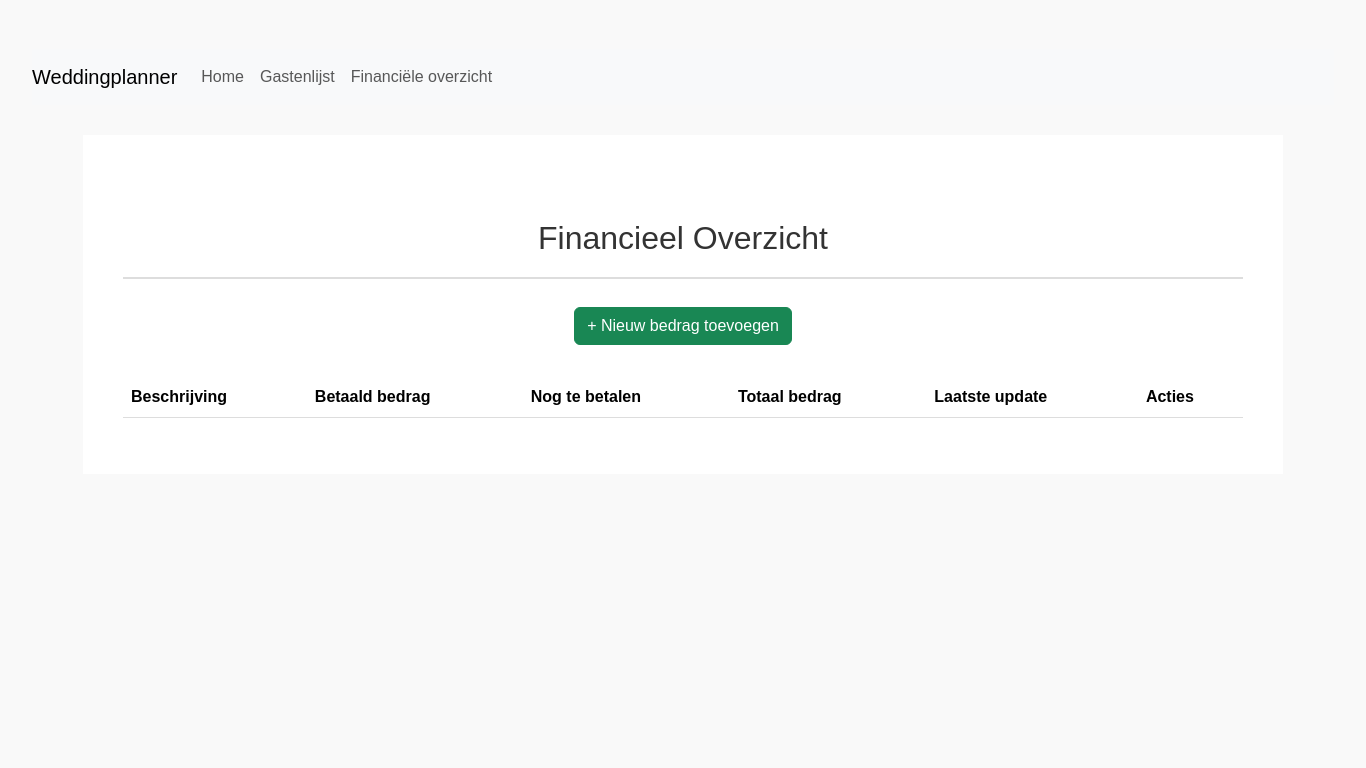
Test: Finance Management E2E Test › Kan toevoegen annuleren zonder iets op te slaan
Click the button with class "btn-success" at (683, 326), box [574, 307, 792, 345]
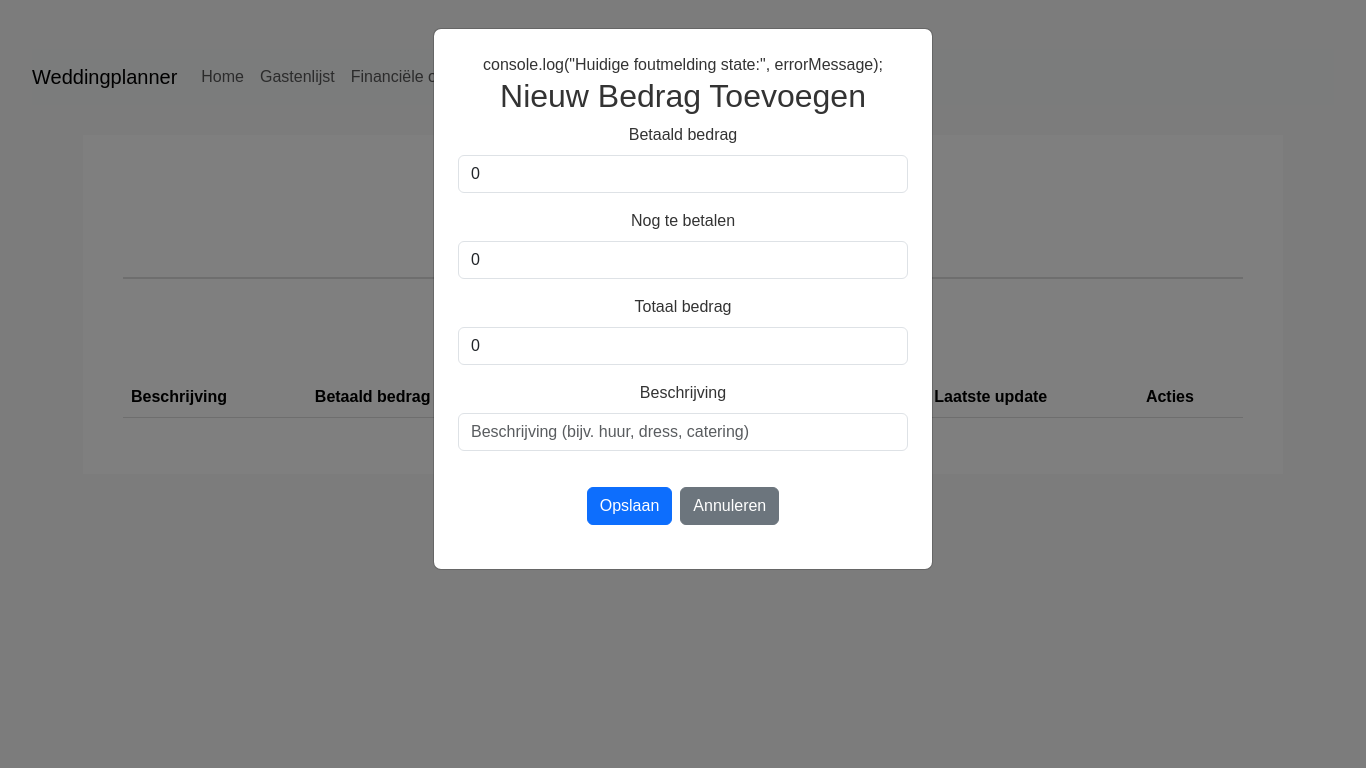
Type "123" into the number field named "amountPayed" at (683, 174), box [458, 155, 908, 193]
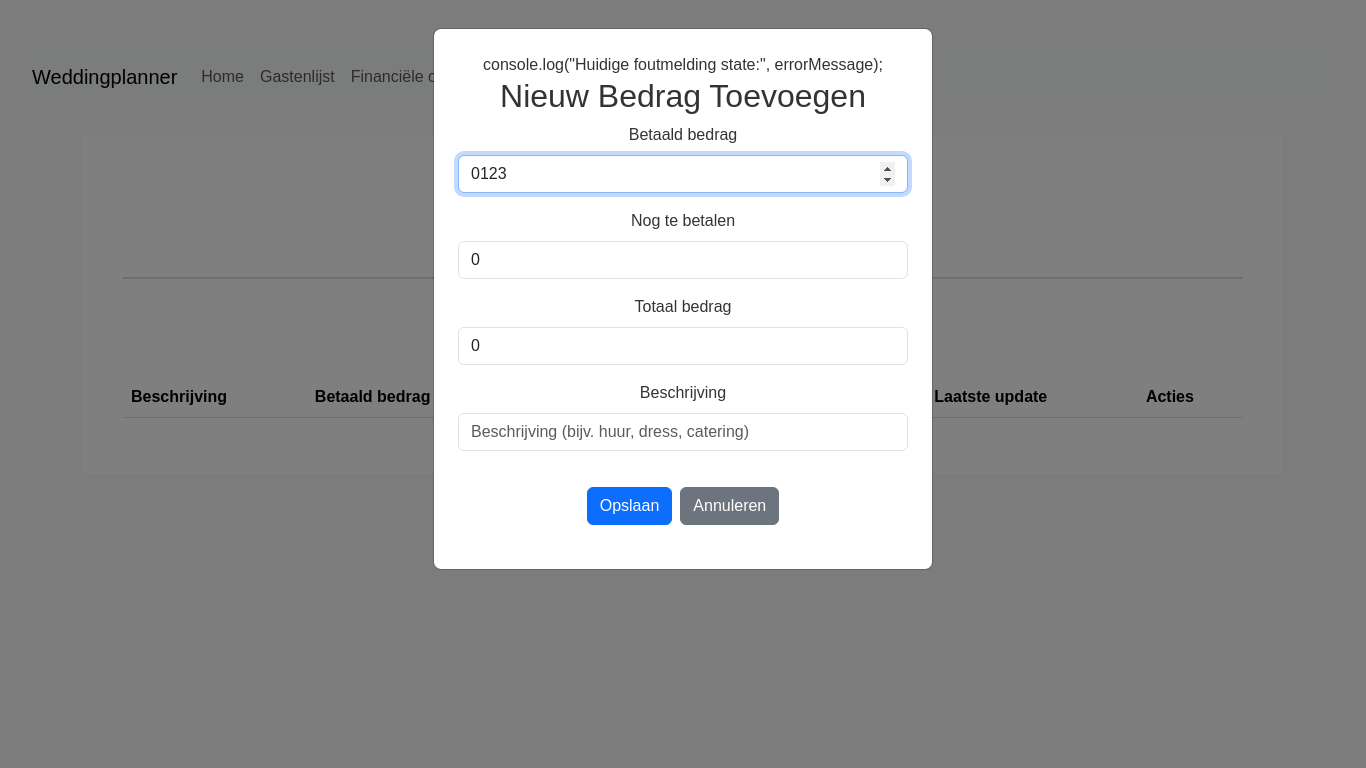
Type "45" into the number field named "amountDue" at (683, 260), box [458, 241, 908, 279]
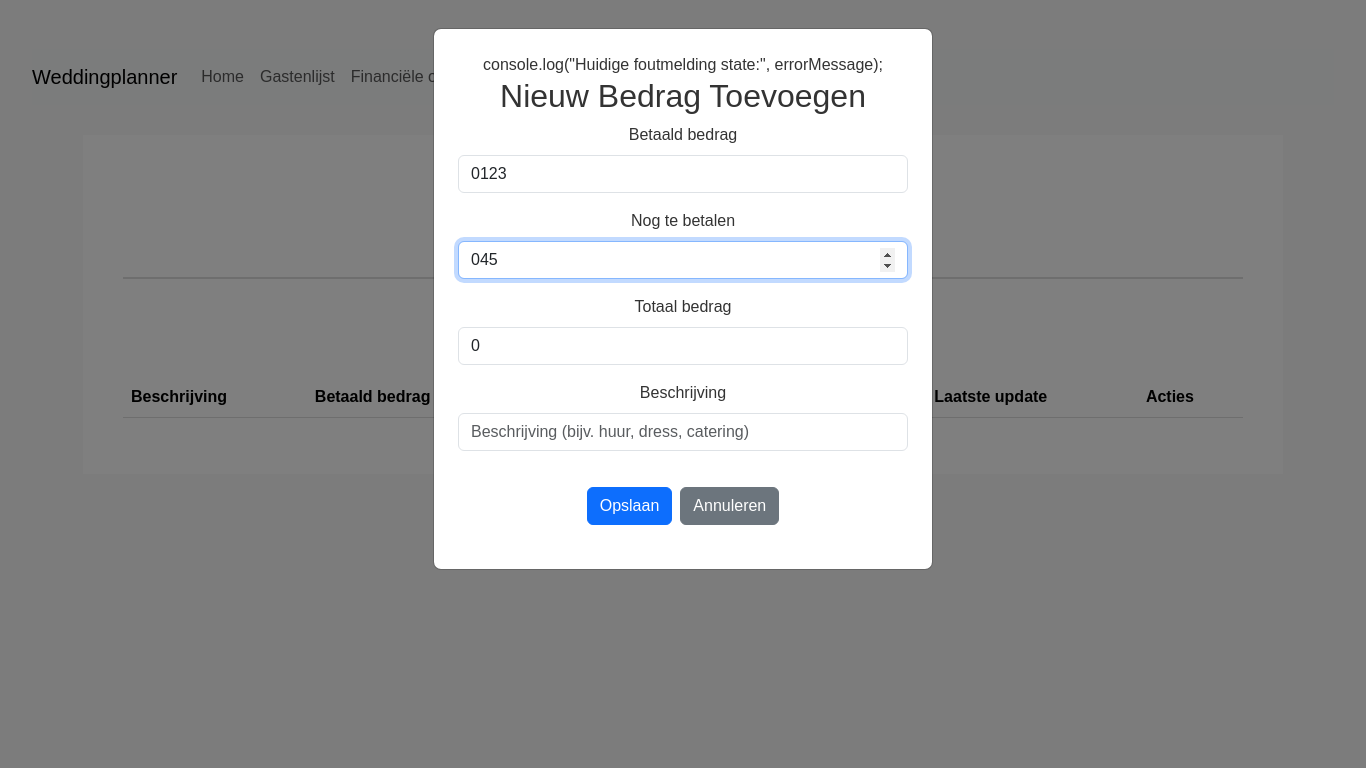
Type "168" into the number field named "amountTotal" at (683, 346), box [458, 327, 908, 365]
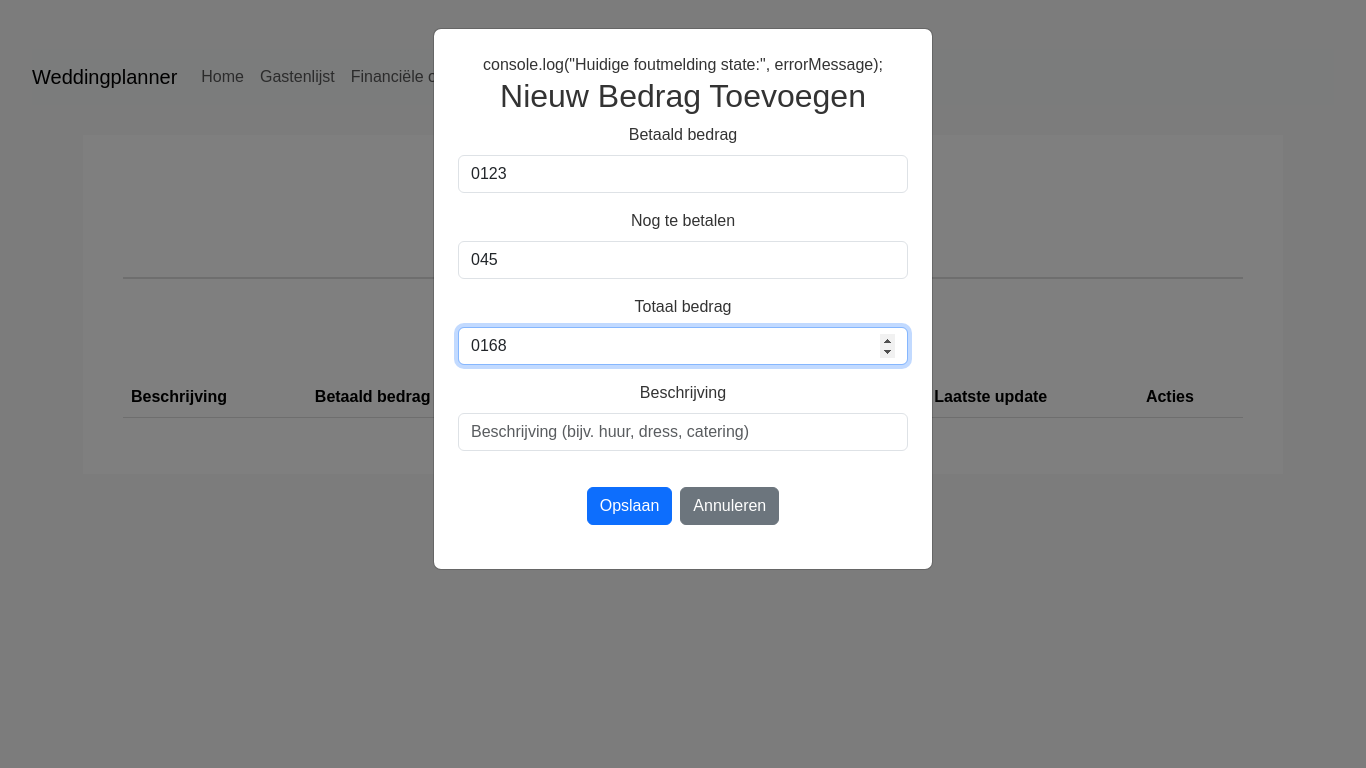
Type "Annuleer test" into the field named "description" at (683, 432), box [458, 413, 908, 451]
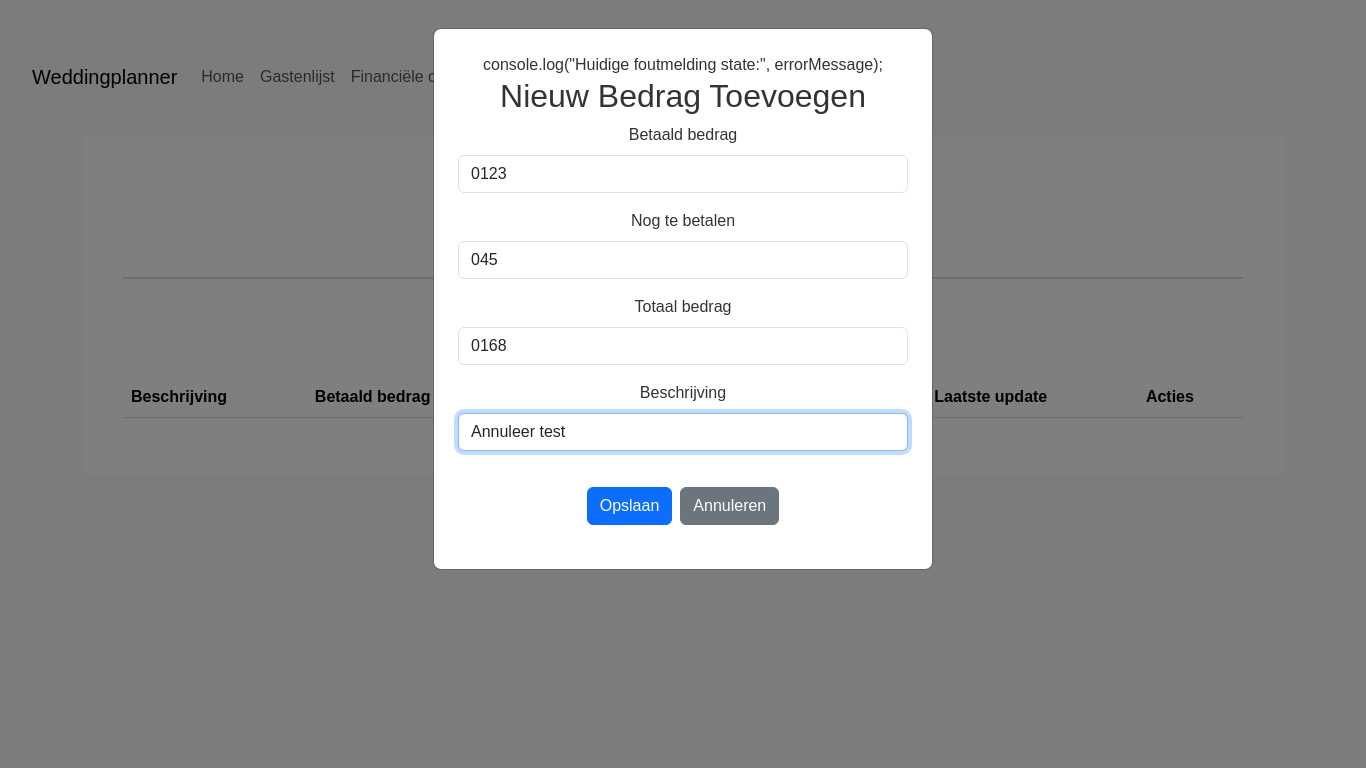
Click the button "Annuleren" at (730, 506), box [680, 487, 779, 525]
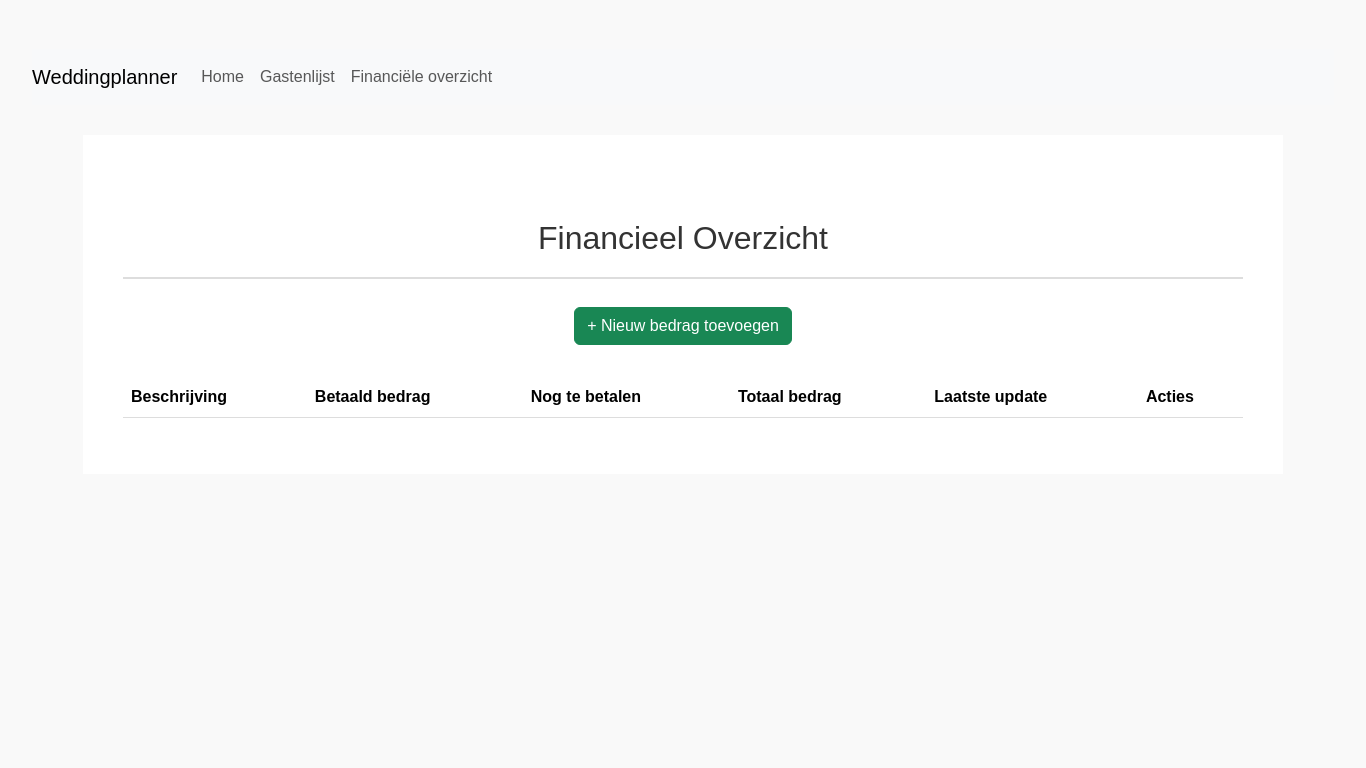
Expected: the text "Annuleer test" is not shown
Expected: the element with class "modal" is gone
